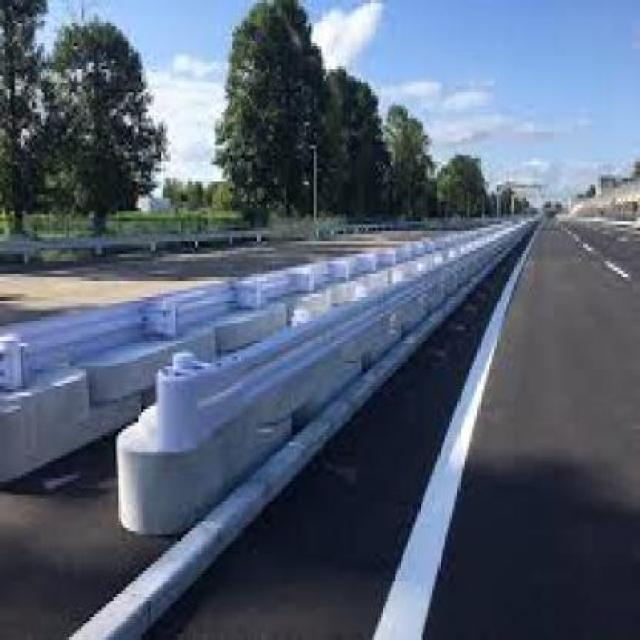Guard rail: (0, 212, 540, 546)
